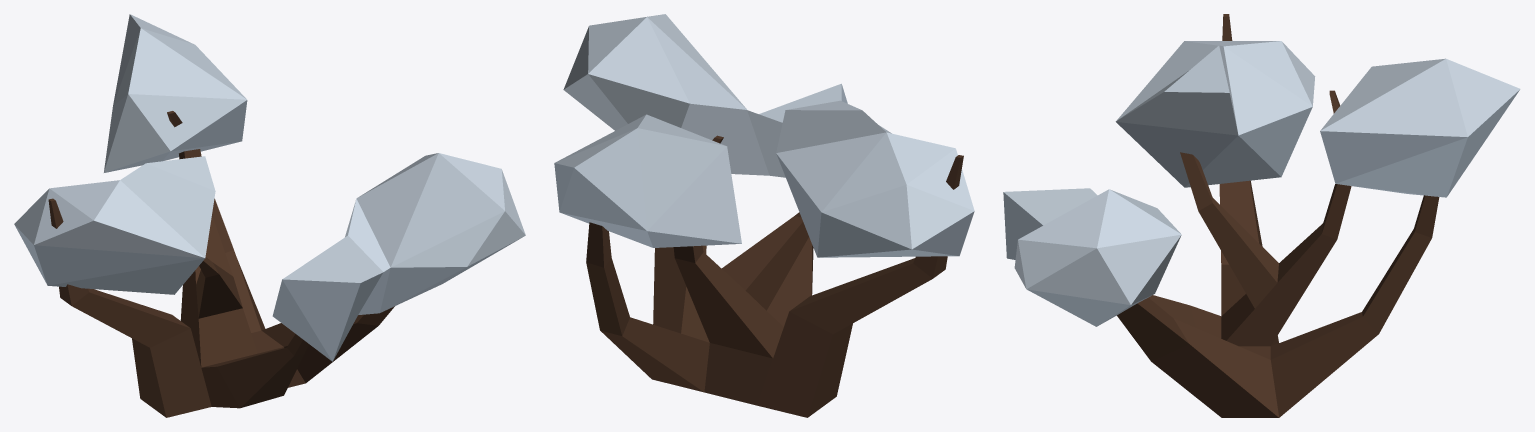
Rendered from BushWinter3_Alt1.fbx.
3 views of the same model, side by side, from view 1: azimuth 30°, elevation 25°; view 2: azimuth 150°, elevation 25°; view 3: azimuth 270°, elevation 25° (orthographic). The views are drawn at different scales.
Visible parts, largest first — view 1: BushWinter3_Alt1; view 2: BushWinter3_Alt1; view 3: BushWinter3_Alt1.
Boxes of the visible parts, box(x1,y1,x2,y2) form: BushWinter3_Alt1: box(14, 14, 525, 417); BushWinter3_Alt1: box(554, 14, 974, 417); BushWinter3_Alt1: box(1003, 14, 1520, 417).
Size of the model in its own units: 0.9191 by 0.6291 by 0.9046.
